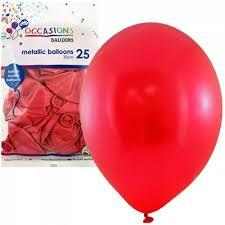red: (77, 21, 223, 222)
